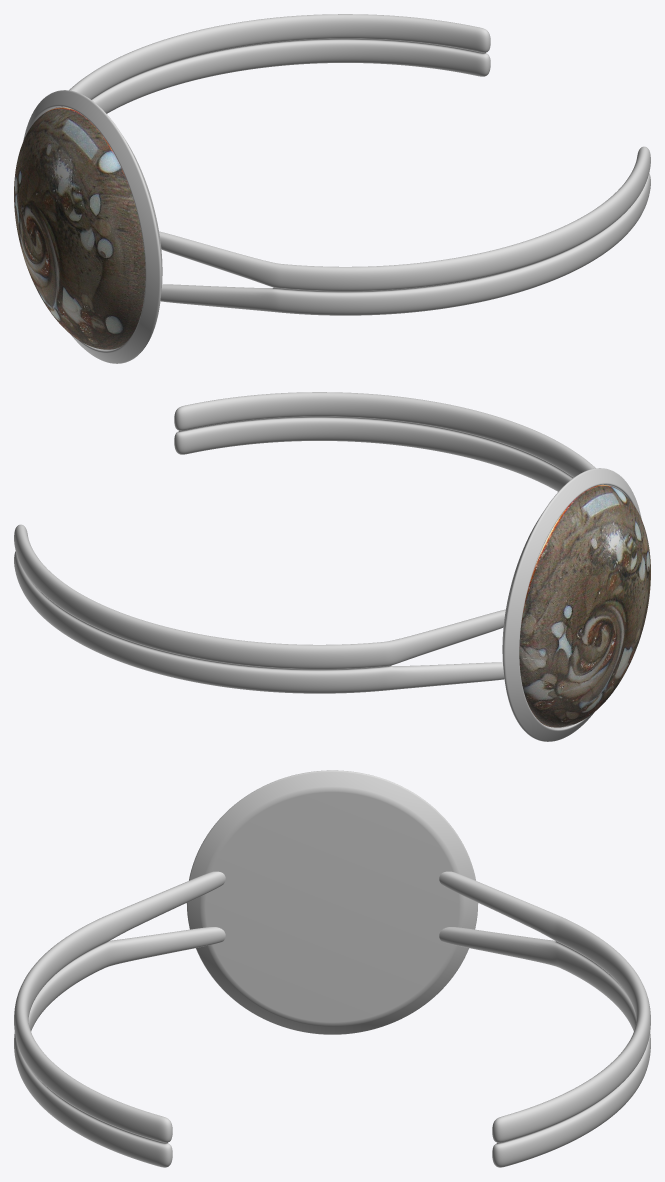
3 views of the same model, one above another, from view 1: azimuth 30°, elevation 25°; view 2: azimuth 150°, elevation 25°; view 3: azimuth 270°, elevation 25° (orthographic). The views are drawn at different scales.
Parts seen in each view (by area): view 1: bijou; view 2: bijou; view 3: bijou.
Boxes of the visible parts, bbox=[...] form: bijou: bbox=[14, 14, 650, 363]; bijou: bbox=[14, 392, 650, 741]; bijou: bbox=[14, 770, 650, 1167].
Size of the model in its own units: 12.87 by 5.99 by 13.09.
2 materials, 1 textured.
